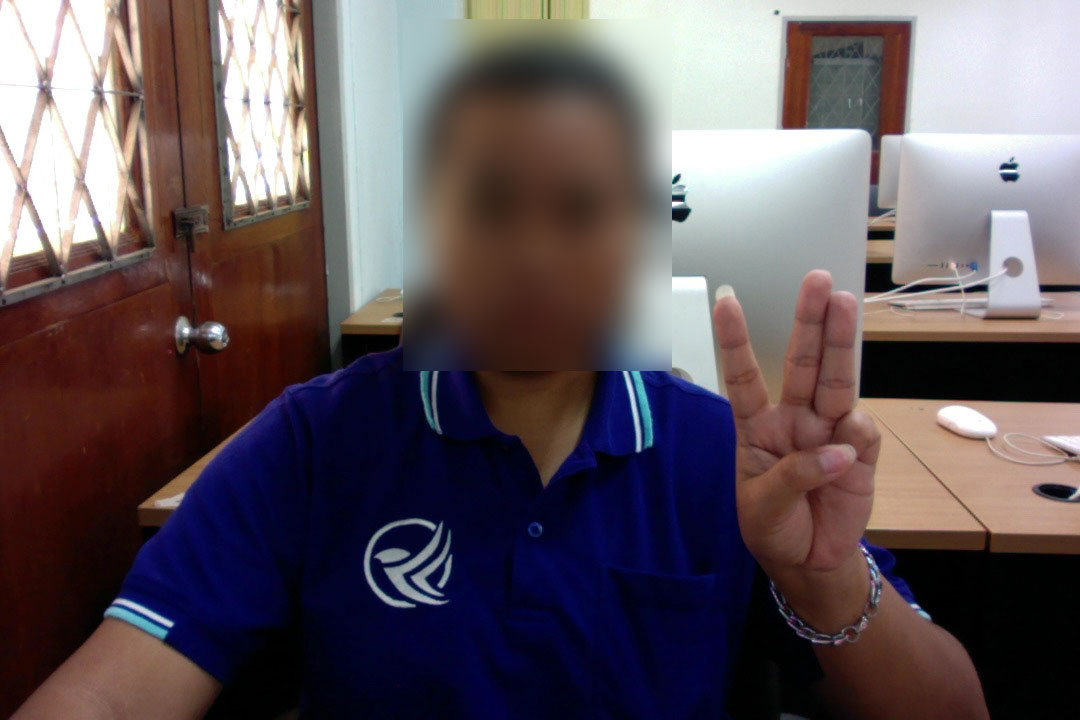wor: (705, 262, 885, 583)
